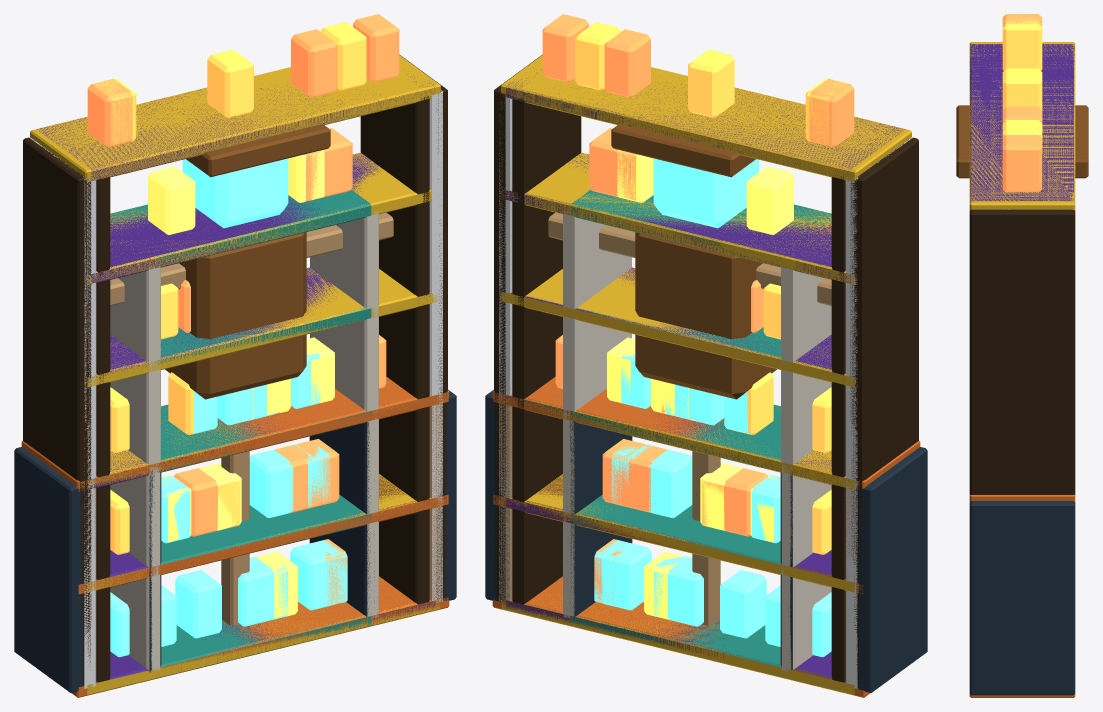
The model's file is flagship_props_018.glb.
3 renders of one model, left to right at view 1: azimuth 30°, elevation 25°; view 2: azimuth 150°, elevation 25°; view 3: azimuth 270°, elevation 25°, orthographic. The views are drawn at different scales.
Visible parts, largest first — view 1: Prop_BBIsle_Shelf_01, Prop_BBIsle_Shelf_06, Prop_BBIsle_Shelf_02, Prop_BBIsle_Shelf_04, Prop_BBIsle_Shelf_00, Prop_BBIsle_Scarecrow_10, Prop_BBIsle_Shelf_05, Prop_BBIsle_Shelf_03; view 2: Prop_BBIsle_Shelf_01, Prop_BBIsle_Shelf_06, Prop_BBIsle_Shelf_02, Prop_BBIsle_Shelf_04, Prop_BBIsle_Shelf_00, Prop_BBIsle_Scarecrow_10, Prop_BBIsle_Shelf_05, Prop_BBIsle_Shelf_03; view 3: Prop_BBIsle_Shelf_01, Prop_BBIsle_Shelf_00, Prop_BBIsle_Shelf_04, Prop_BBIsle_Shelf_06, Prop_BBIsle_Scarecrow_10.
Part boxes in pixels (box(x1,y1,x2,y2)): Prop_BBIsle_Shelf_01: box(23, 14, 447, 695); Prop_BBIsle_Shelf_06: box(50, 29, 429, 682); Prop_BBIsle_Shelf_02: box(110, 150, 378, 672); Prop_BBIsle_Shelf_04: box(29, 22, 442, 694); Prop_BBIsle_Shelf_00: box(14, 377, 456, 697); Prop_BBIsle_Scarecrow_10: box(110, 124, 393, 625); Prop_BBIsle_Shelf_05: box(149, 353, 374, 672); Prop_BBIsle_Shelf_03: box(91, 400, 442, 682); Prop_BBIsle_Shelf_01: box(494, 14, 918, 695); Prop_BBIsle_Shelf_06: box(512, 29, 891, 682); Prop_BBIsle_Shelf_02: box(563, 150, 831, 671); Prop_BBIsle_Shelf_04: box(499, 22, 912, 688); Prop_BBIsle_Shelf_00: box(485, 377, 927, 697); Prop_BBIsle_Scarecrow_10: box(548, 124, 831, 625); Prop_BBIsle_Shelf_05: box(569, 353, 792, 669); Prop_BBIsle_Shelf_03: box(499, 396, 856, 682); Prop_BBIsle_Shelf_01: box(969, 14, 1075, 494); Prop_BBIsle_Shelf_00: box(969, 494, 1075, 697); Prop_BBIsle_Shelf_04: box(969, 17, 1074, 201); Prop_BBIsle_Shelf_06: box(969, 67, 1075, 195); Prop_BBIsle_Scarecrow_10: box(956, 105, 1088, 178).
Size of the model in its own units: 1.58 by 2.25 by 0.5.
